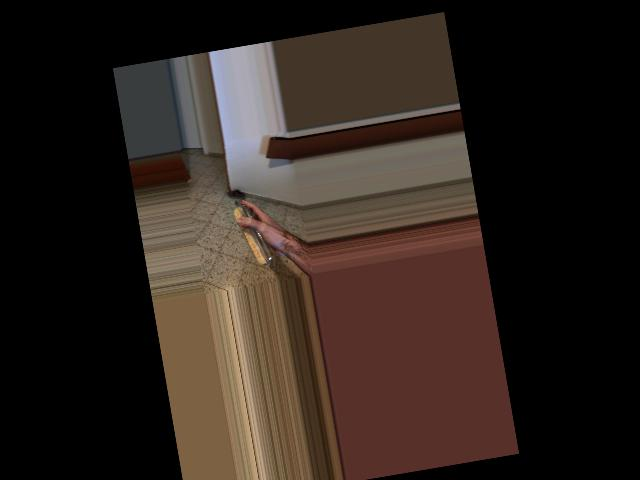cheese: (223, 190, 289, 263)
